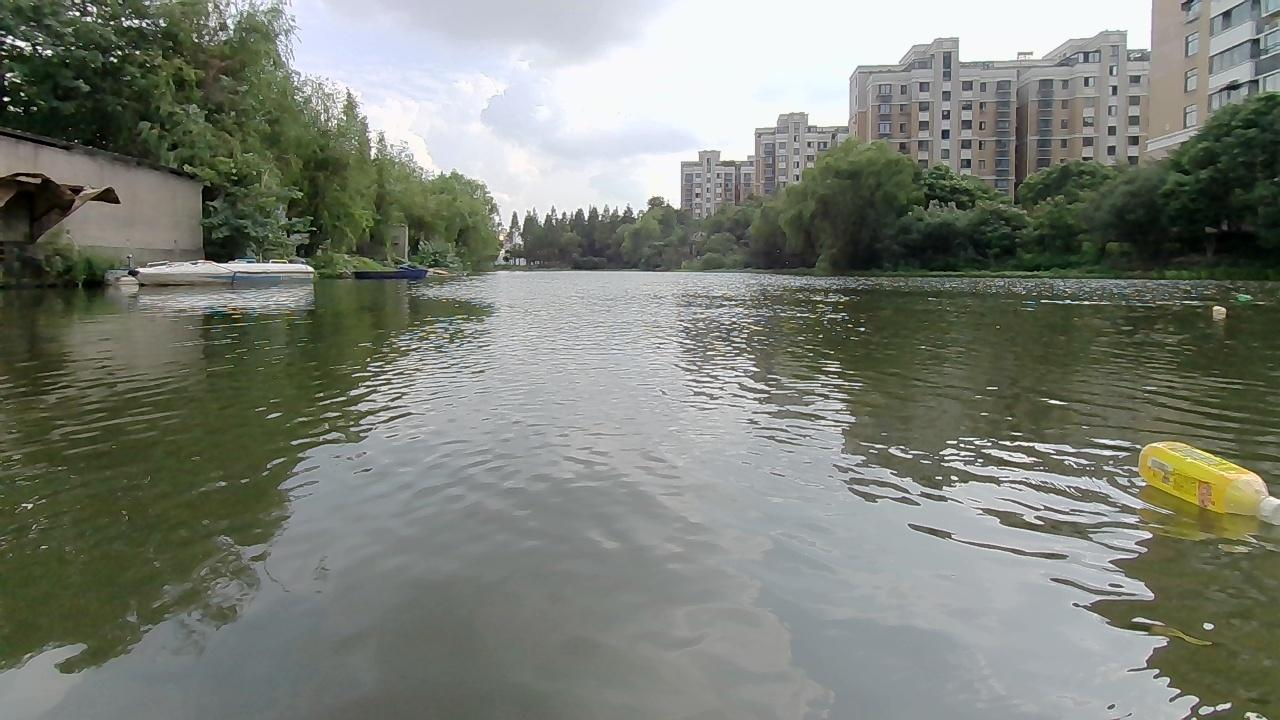bottle: (1136, 436, 1279, 531), (1207, 301, 1227, 320), (1235, 290, 1254, 302)
